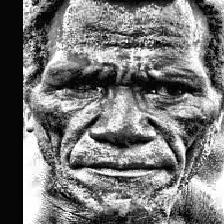angry: (13, 14, 224, 224)
